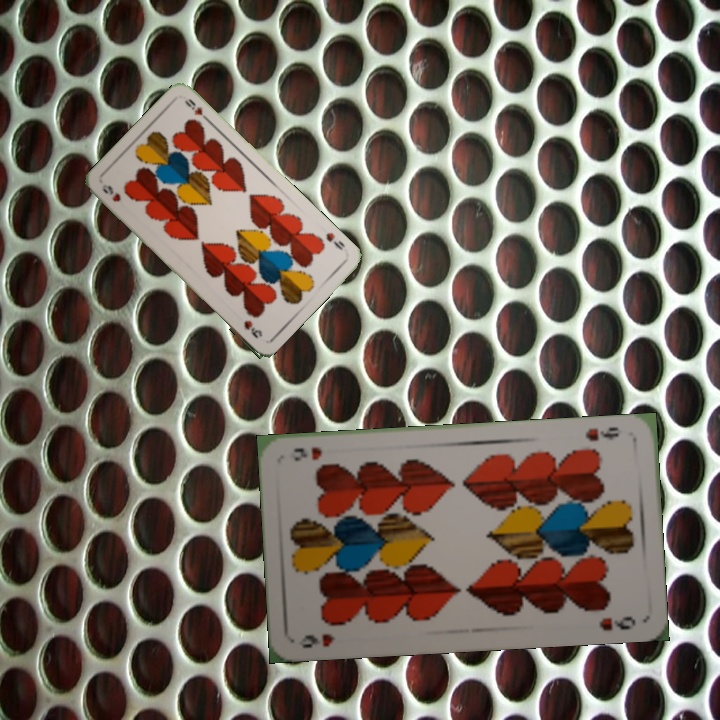H9: (295, 629, 337, 651), (582, 422, 621, 444), (322, 228, 347, 253), (98, 180, 123, 204)
